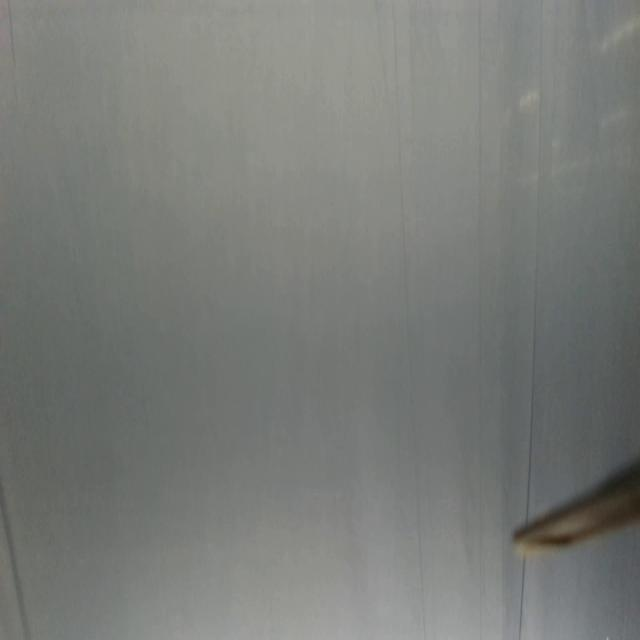crease: (388, 2, 427, 639), (525, 0, 546, 516), (474, 1, 487, 640), (0, 478, 32, 639), (518, 558, 530, 640), (6, 0, 18, 70)
